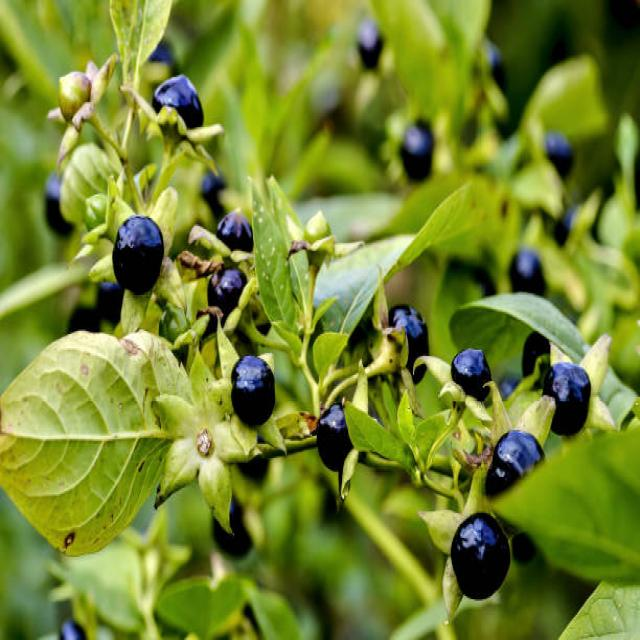Belladonna: (0, 197, 352, 640), (329, 46, 640, 401), (330, 214, 590, 620), (207, 264, 478, 548), (61, 156, 276, 412), (34, 92, 242, 305)
